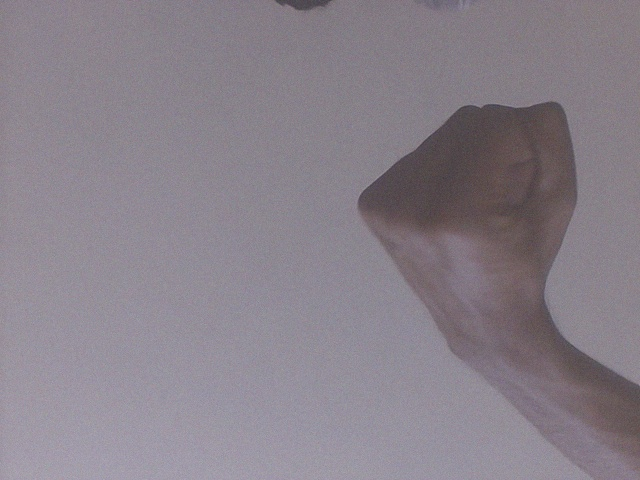hand: (351, 98, 582, 363)
